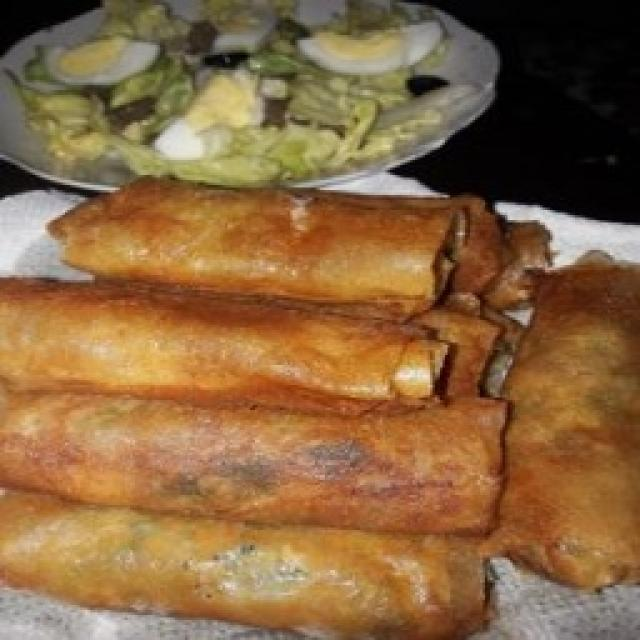Brik: (0, 178, 640, 640)
